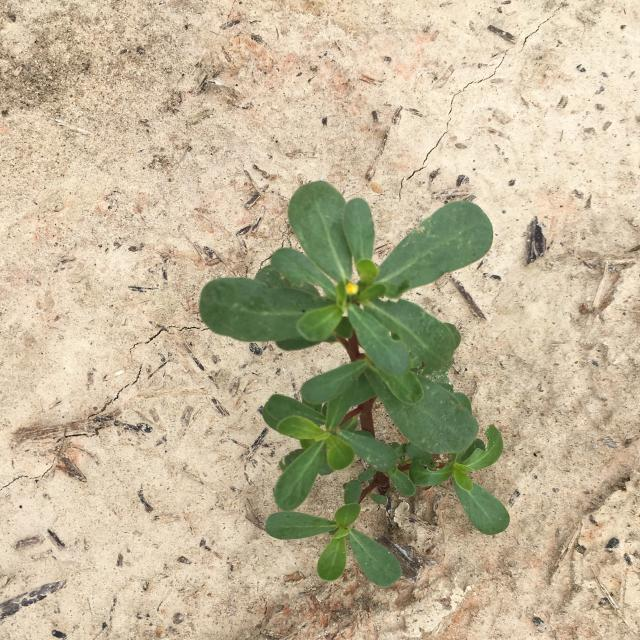Purslane: (198, 181, 512, 589)
